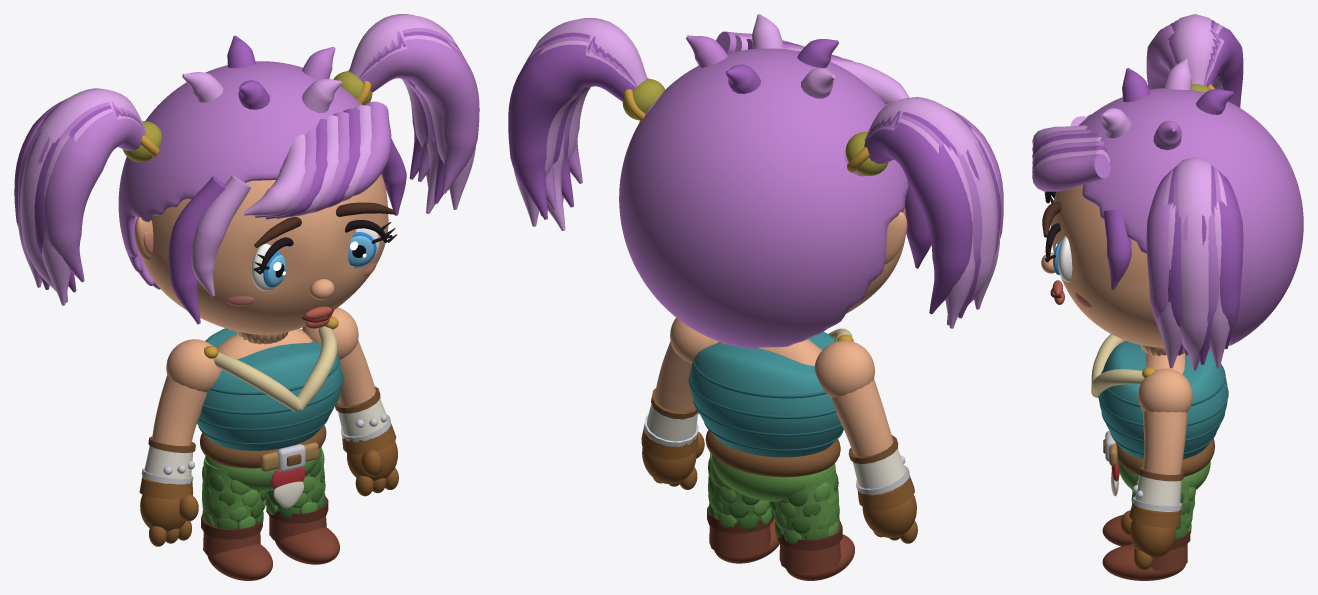
File: emmi.glb
3 renders of one model, left to right at view 1: azimuth 30°, elevation 25°; view 2: azimuth 150°, elevation 25°; view 3: azimuth 270°, elevation 25°, orthographic. The views are drawn at different scales.
Visible parts, largest first — view 1: HairCap, Skull, Top, Tail1_0, Tail-1_0, Tail-1_4, SideLockR, SideLockR2, Tail1_4, ArmSkin-1, Bang7, Shoulder-1 (+40 smaller); view 2: HairCap, Top, Tail1_8, Tail-1_8, Tail-1_4, Tail1_4, ArmSkin-1, Belt, Shoulder-1, Hips, ArmSkin1, Tail-1_7 (+28 smaller); view 3: HairCap, Skull, Top, Tail1_4, Tail1_8, Tail1_0, ArmSkin1, Bang0, Shoulder1, Tail-1_4, Tail-1_8, SideLockL (+29 smaller).
Part boxes in pixels (x1,y1,x2,y2): HairCap: (118,61,361,289); Skull: (142,174,388,334); Top: (197,328,342,450); Tail1_0: (360,39,479,193); Tail-1_0: (45,112,145,282); Tail-1_4: (20,88,145,302); SideLockR: (168,175,225,324); SideLockR2: (191,175,251,296); Tail1_4: (349,14,455,213); ArmSkin-1: (152,375,207,446); Bang7: (243,134,305,215); Shoulder-1: (166,339,221,392); HairCap: (619,48,908,348); Top: (689,331,843,457); Tail1_8: (508,44,635,219); Tail-1_8: (864,122,972,314); Tail-1_4: (864,97,997,325); Tail1_4: (533,18,647,230); ArmSkin-1: (831,379,893,456); Belt: (705,430,840,477); Shoulder-1: (814,340,874,397); Hips: (711,455,834,501); ArmSkin1: (655,341,694,411); Tail-1_7: (865,118,975,328); HairCap: (1079,88,1303,345); Skull: (1050,185,1164,347); Top: (1099,341,1227,459); Tail1_4: (1172,157,1216,370); Tail1_8: (1218,171,1243,349); Tail1_0: (1146,172,1170,338); ArmSkin1: (1142,411,1187,474); Bang0: (1032,154,1110,191); Shoulder1: (1138,368,1192,412); Tail-1_4: (1171,14,1218,84); Tail-1_8: (1205,27,1243,107); SideLockL: (1103,209,1131,289).
Size of the model in its own units: 1.18 by 1.24 by 0.6462.
